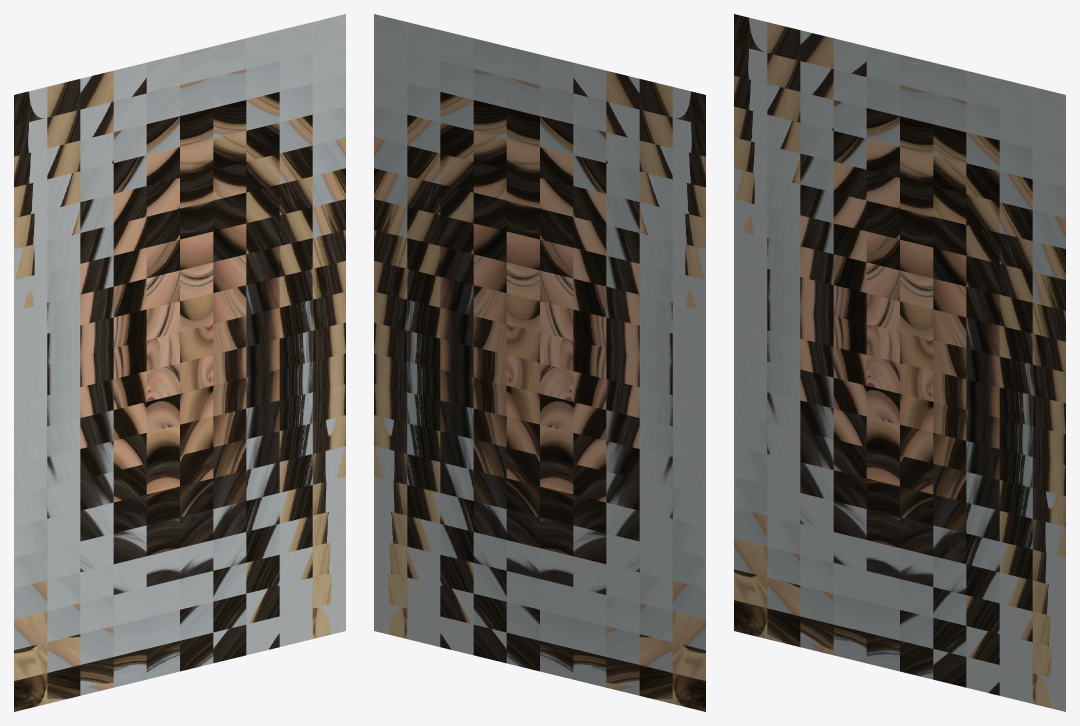
Rendered from spirall.fbx.
3 views of the same model, side by side, from view 1: azimuth 30°, elevation 25°; view 2: azimuth 150°, elevation 25°; view 3: azimuth 330°, elevation 25° (orthographic).
Visible parts, largest first — view 1: Plane_1; view 2: Plane_1; view 3: Plane_1.
Boxes of the visible parts, x1=… form: Plane_1: x1=14, y1=14, x2=345, y2=711; Plane_1: x1=374, y1=14, x2=705, y2=711; Plane_1: x1=734, y1=14, x2=1065, y2=711.
Size of the model in its own units: 720 by 1280 by 3.63e-13.
1 material, 1 textured.
